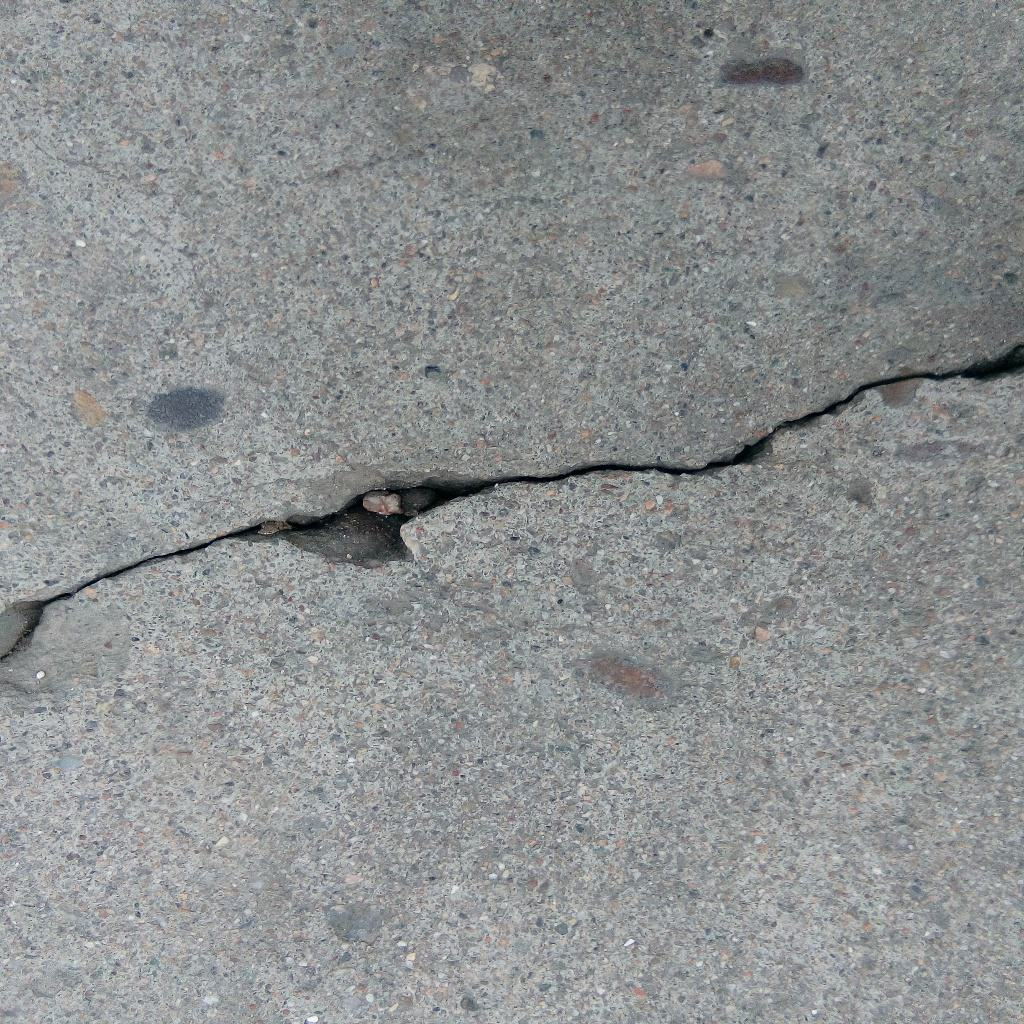Crack: (1, 337, 1024, 661)
